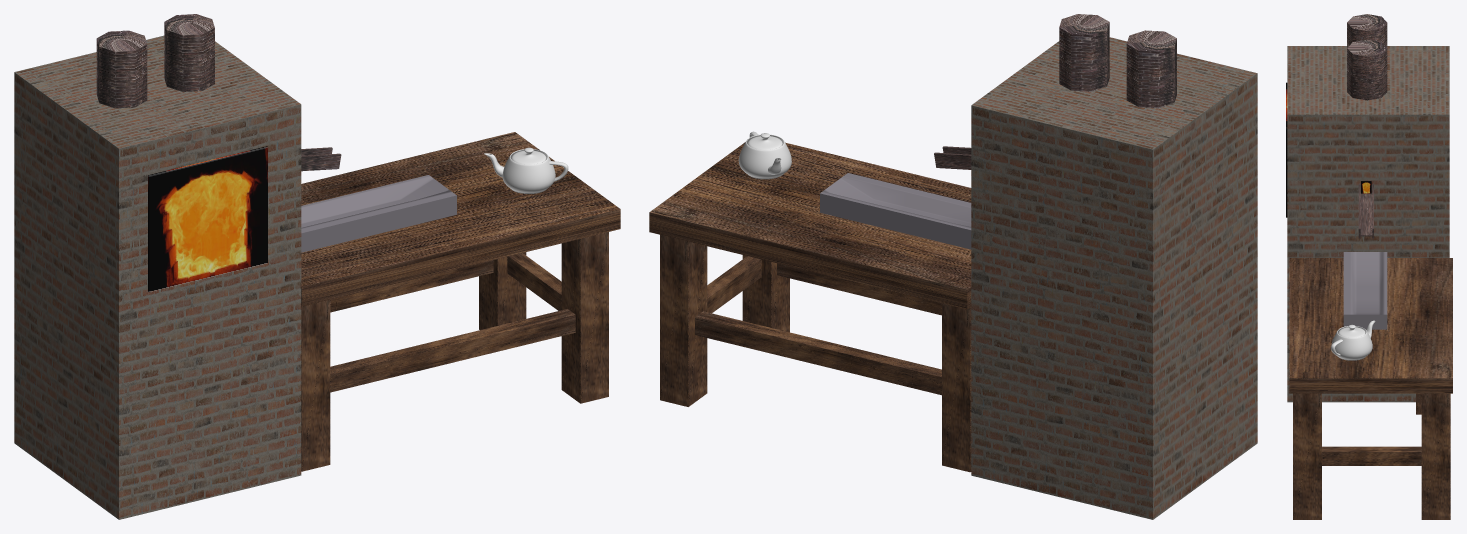
File: Factory Building.FBX
3 renders of one model, left to right at view 1: azimuth 30°, elevation 25°; view 2: azimuth 150°, elevation 25°; view 3: azimuth 270°, elevation 25°, orthographic. The views are drawn at different scales.
Visible parts, largest first — view 1: Box002, Box007, Box003, Box008, object 8, Box013, Box010, Cylinder001, Cylinder002, Box009, Teapot001, Box014 (+1 smaller); view 2: Box002, Box007, Box009, object 8, Box014, Box011, Cylinder001, Cylinder002, Box008, Box013, Teapot001, Box015; view 3: Box002, Box007, Box009, Box008, object 8, Cylinder002, Box015, Teapot001, Cylinder001, Box004, Box003.
Boxes of the visible parts, x1,y1,x2,y2 form: Box002: [14, 35, 301, 519]; Box007: [301, 132, 620, 306]; Box003: [148, 146, 267, 291]; Box008: [561, 232, 608, 403]; object 8: [301, 175, 456, 252]; Box013: [330, 309, 575, 392]; Box010: [301, 300, 330, 471]; Cylinder001: [96, 30, 147, 108]; Cylinder002: [164, 14, 214, 91]; Box009: [479, 252, 526, 329]; Teapot001: [484, 147, 568, 193]; Box014: [330, 260, 493, 312]; Box002: [971, 37, 1257, 519]; Box007: [649, 142, 971, 309]; Box009: [660, 235, 707, 406]; object 8: [820, 173, 971, 249]; Box014: [695, 311, 941, 395]; Box011: [942, 303, 971, 472]; Cylinder001: [1126, 30, 1176, 108]; Cylinder002: [1059, 14, 1109, 91]; Box008: [742, 255, 789, 332]; Box013: [777, 263, 941, 315]; Teapot001: [738, 131, 791, 179]; Box015: [707, 256, 761, 313]; Box002: [1287, 46, 1449, 402]; Box007: [1289, 258, 1452, 393]; Box009: [1421, 393, 1450, 519]; Box008: [1293, 393, 1321, 519]; object 8: [1343, 252, 1387, 329]; Cylinder002: [1347, 39, 1387, 100]; Box015: [1322, 446, 1421, 465]; Teapot001: [1331, 320, 1375, 360]; Cylinder001: [1347, 14, 1387, 47]; Box004: [1360, 194, 1372, 236]; Box003: [1286, 82, 1287, 217].
Size of the model in its own units: 40.25 by 32.72 by 14.94.
Materials: 6 (4 with a texture image).
